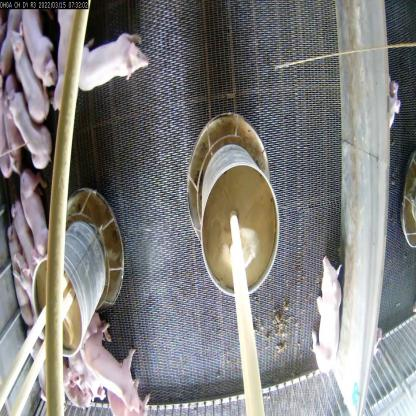Pig: (81, 322, 150, 412), (311, 247, 350, 379), (76, 29, 153, 94), (5, 82, 53, 172), (10, 22, 52, 122), (13, 171, 56, 258), (51, 0, 84, 111), (19, 4, 61, 91), (23, 322, 56, 409), (5, 196, 37, 274), (66, 349, 108, 404), (59, 360, 91, 416)
